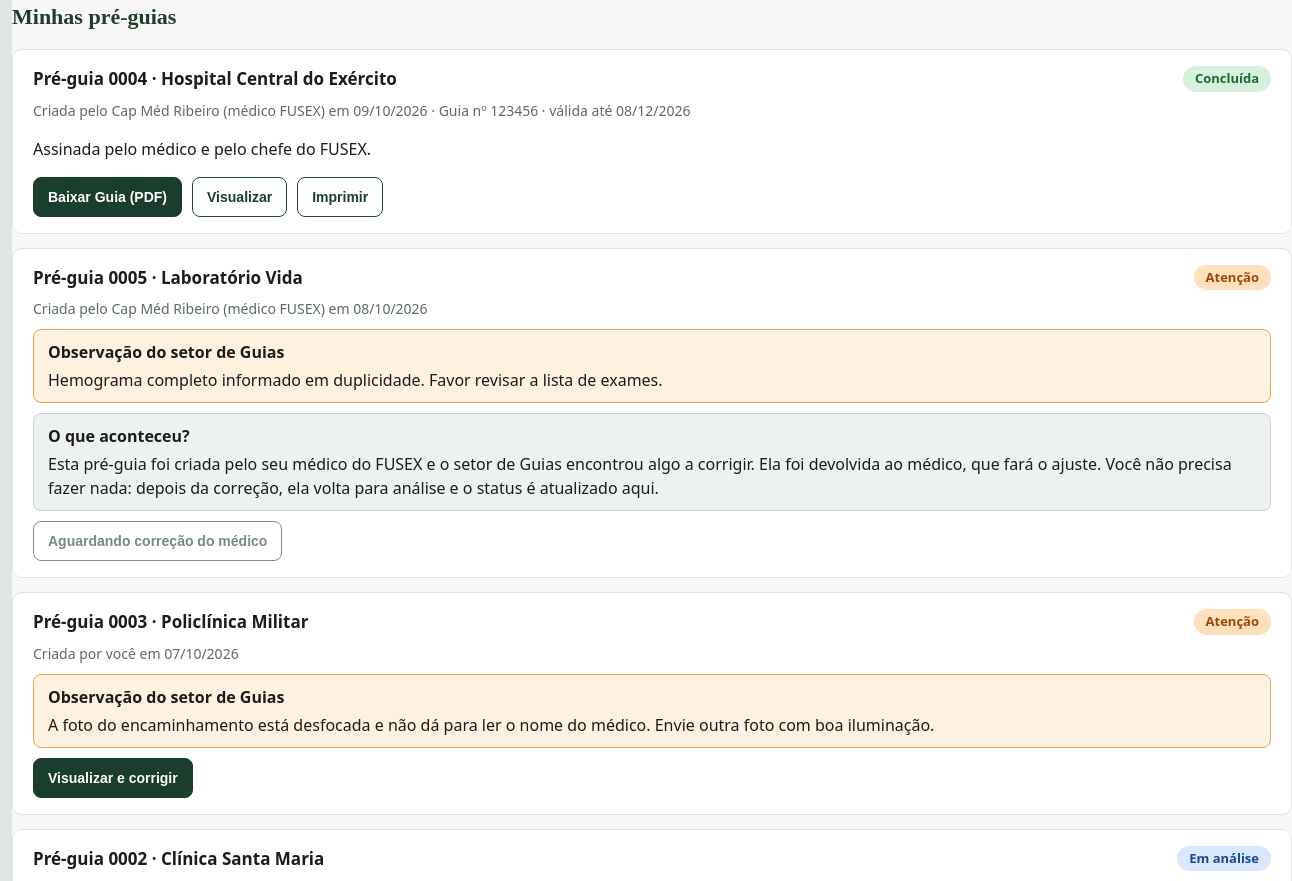
it: T1-FE · Minhas pré-guias › erro ao obter o PDF aparece no próprio cartão
The width and height of the screenshot is (1292, 881).
Click the button "Baixar Guia (PDF)" at (108, 196), box top-left (33, 176), bottom-right (182, 216)
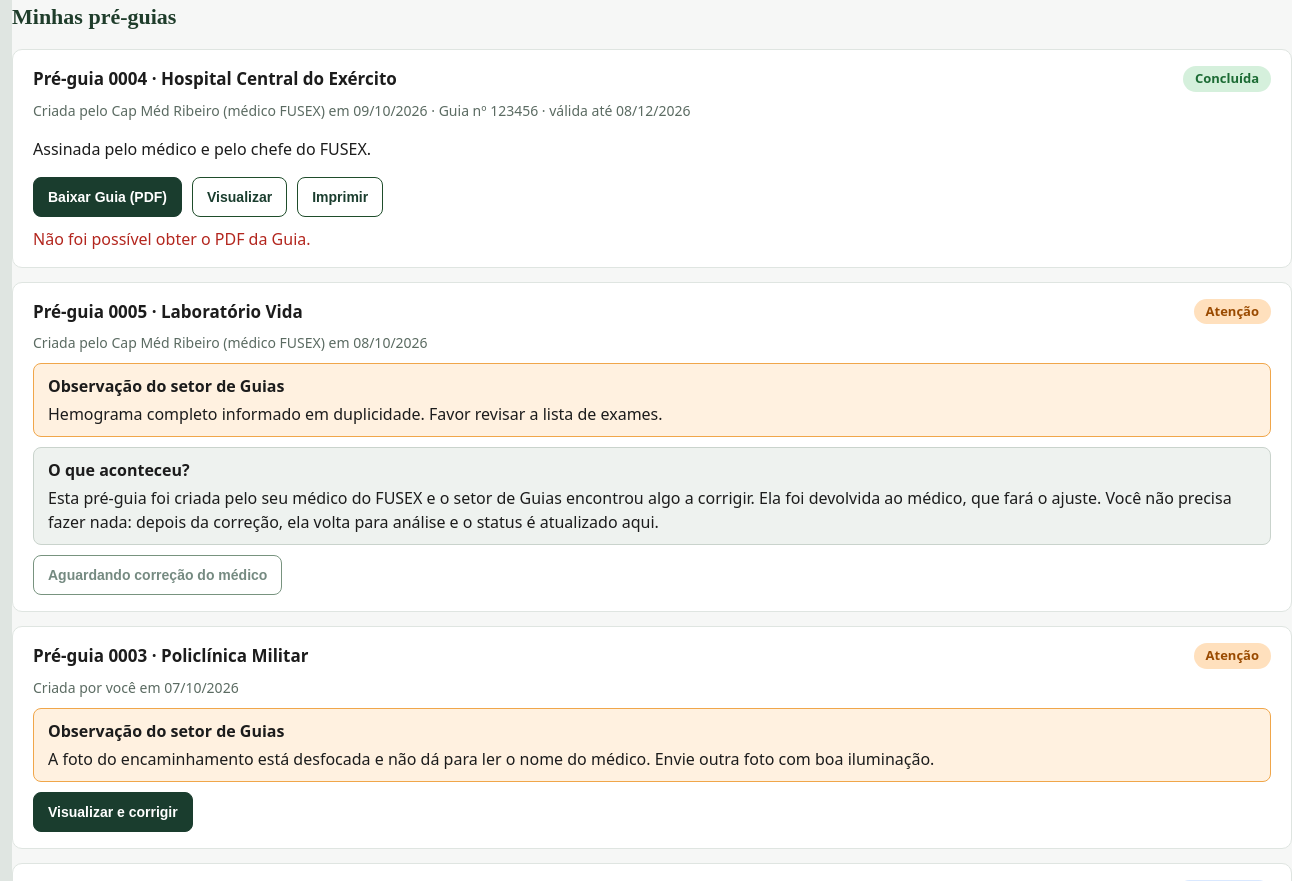
Now the message reads "Não foi possível obter o PDF da Guia.", box top-left (33, 228), bottom-right (310, 250)
